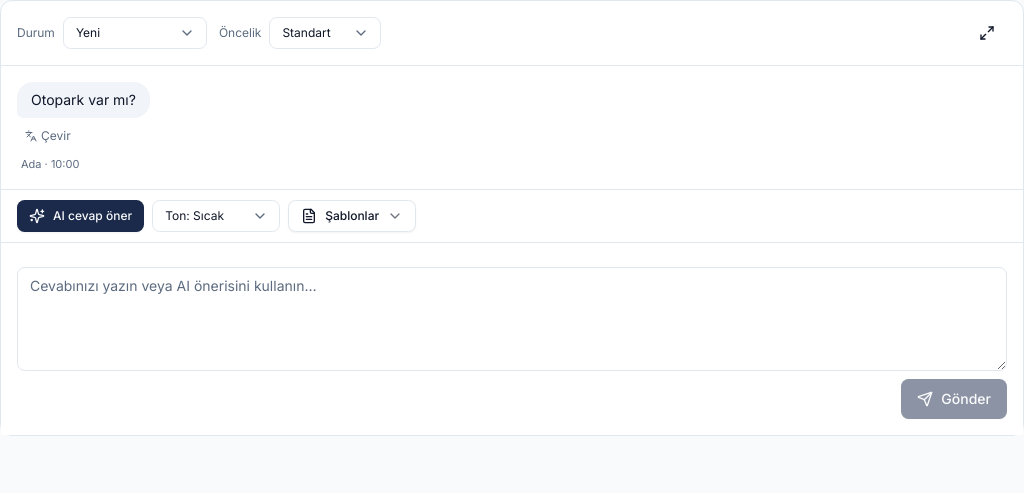
Test: konuşma ekranı — öneri onayı işlem kimliğini taşır (S1) › KONTROL: elle cevabın 409'u (aynı metin az önce gitti) yenileme tetiklemez — yalnız öneri onayında
Type "Arkada otopark var." into the text box named "Misafire cevabınız" at (512,318), box [17,266,1007,370]
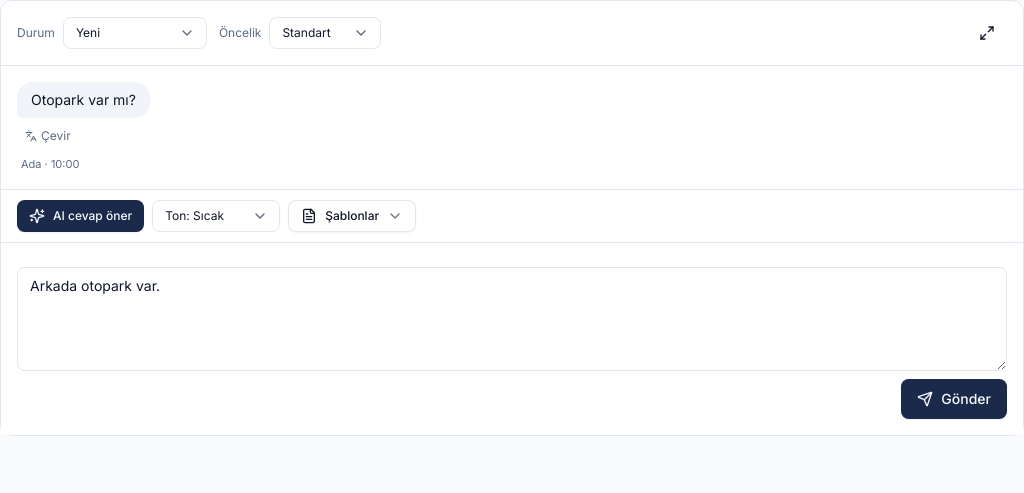
Click the button "Gönder" at (954,398), box [901,378,1007,418]
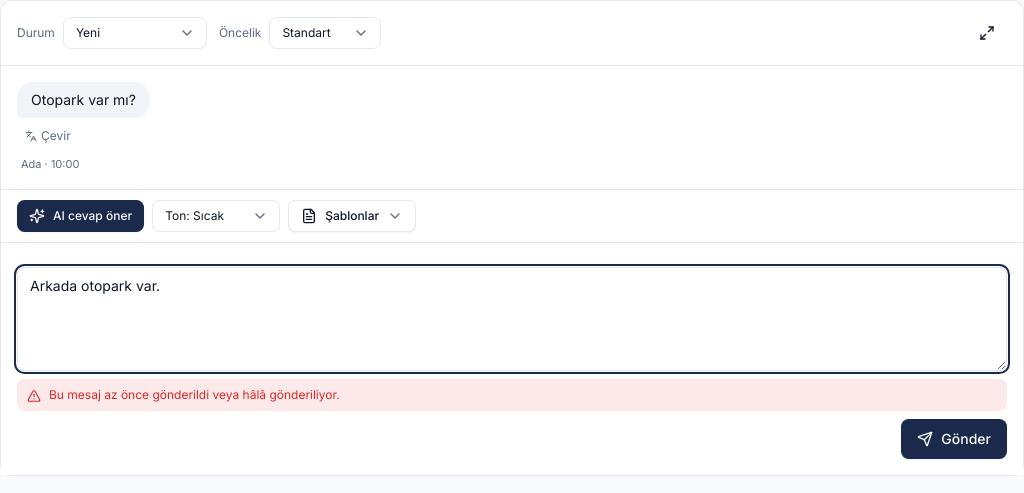
Result: the text "Bu mesaj az önce gönderildi veya hâlâ gönderiliyor." is shown at [17,378,1007,410]
